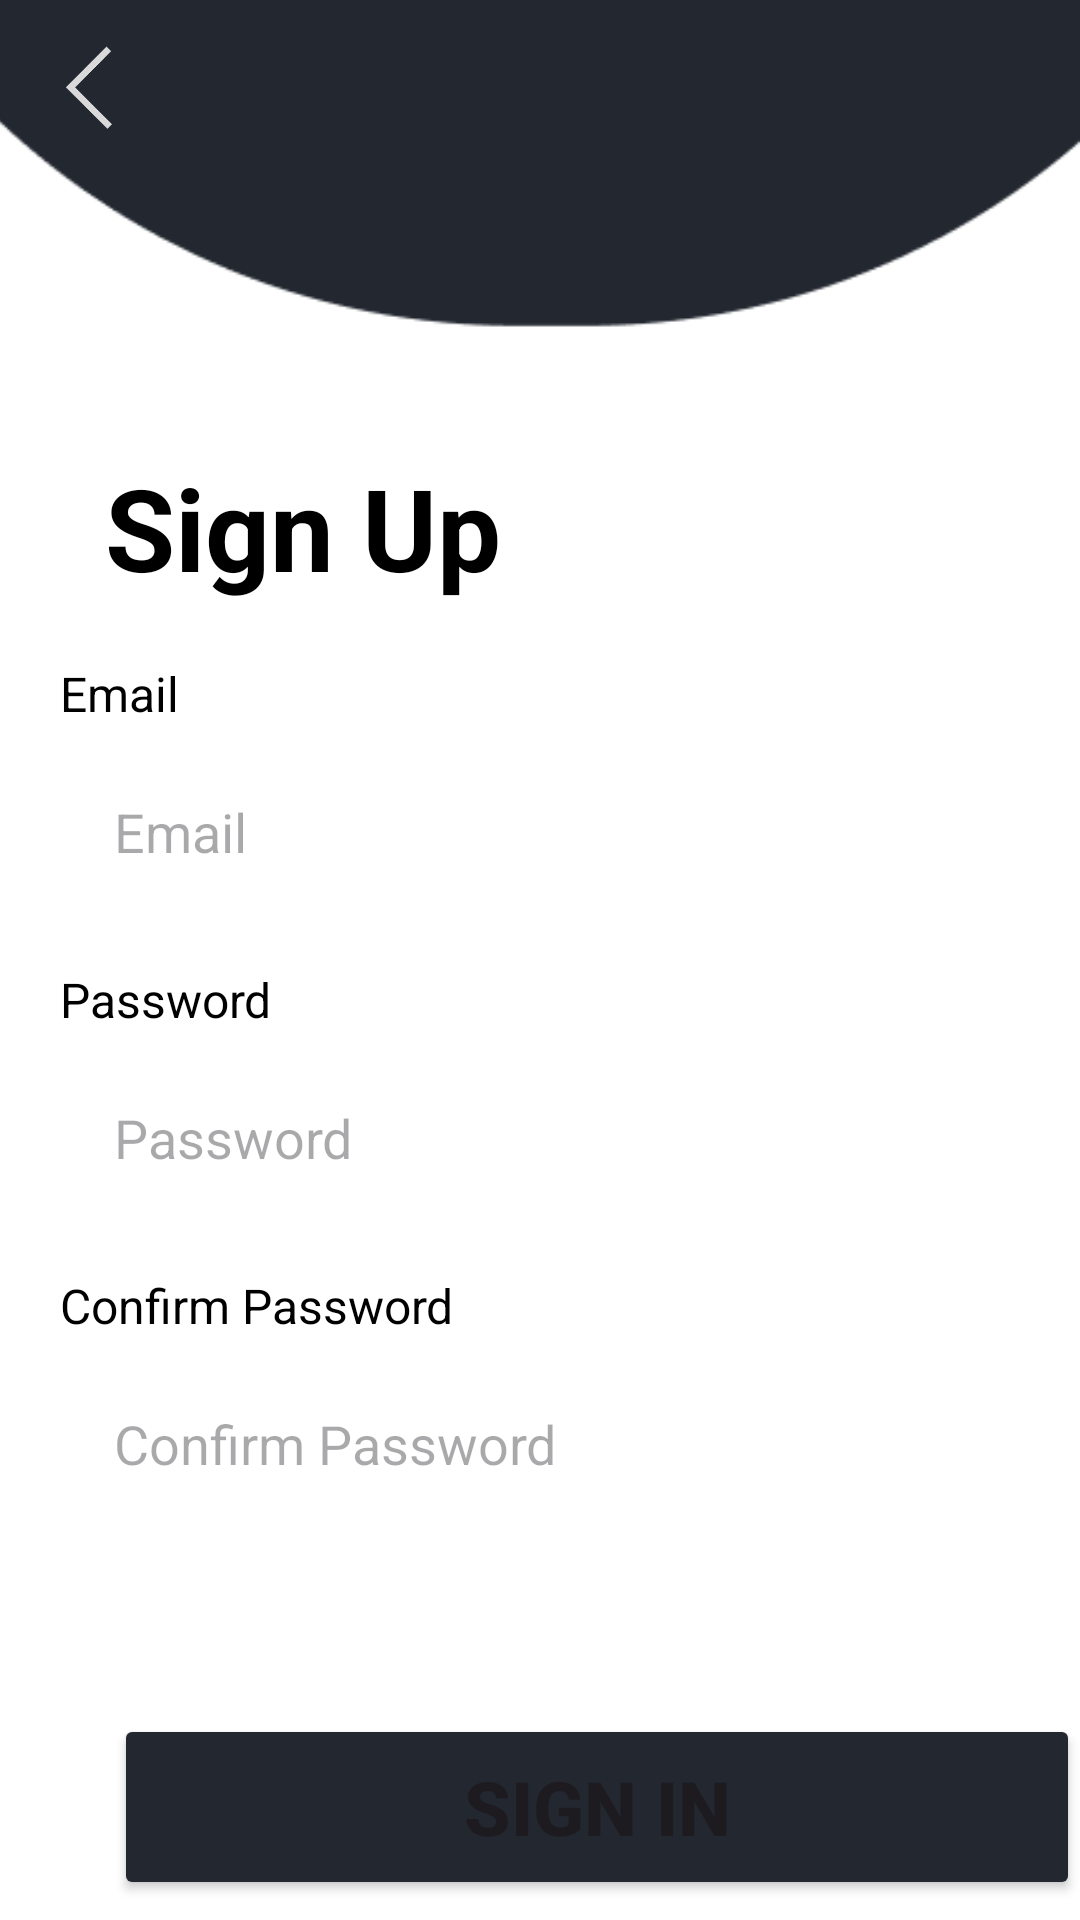

Locate icon controls on the screen. Image size 1080px×1920px, boxes as {"x1": x1, "y1": y1, "x2": x2, "y2": y2}.
back: {"x1": 66, "y1": 46, "x2": 112, "y2": 129}
